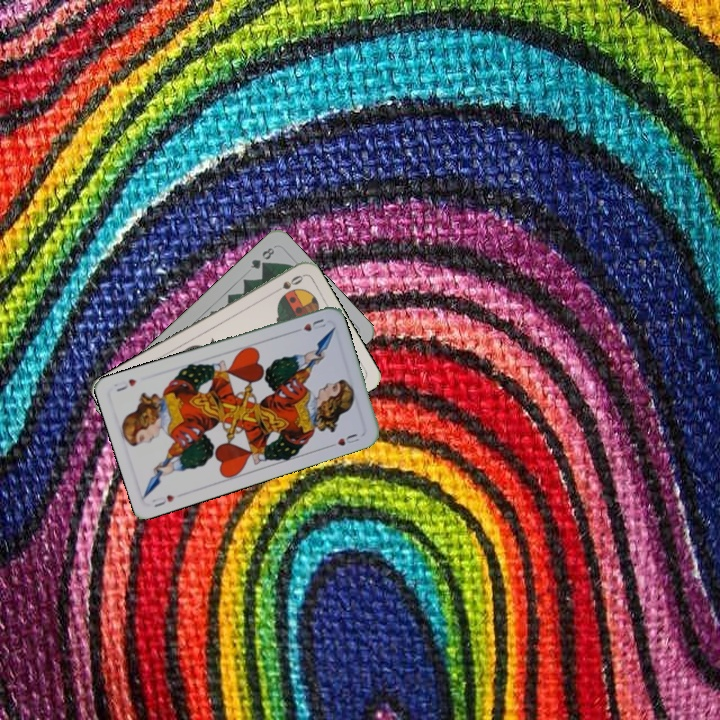G8: (246, 243, 277, 272)
HU: (290, 315, 328, 336), (148, 491, 178, 510)
SO: (268, 271, 306, 297)
